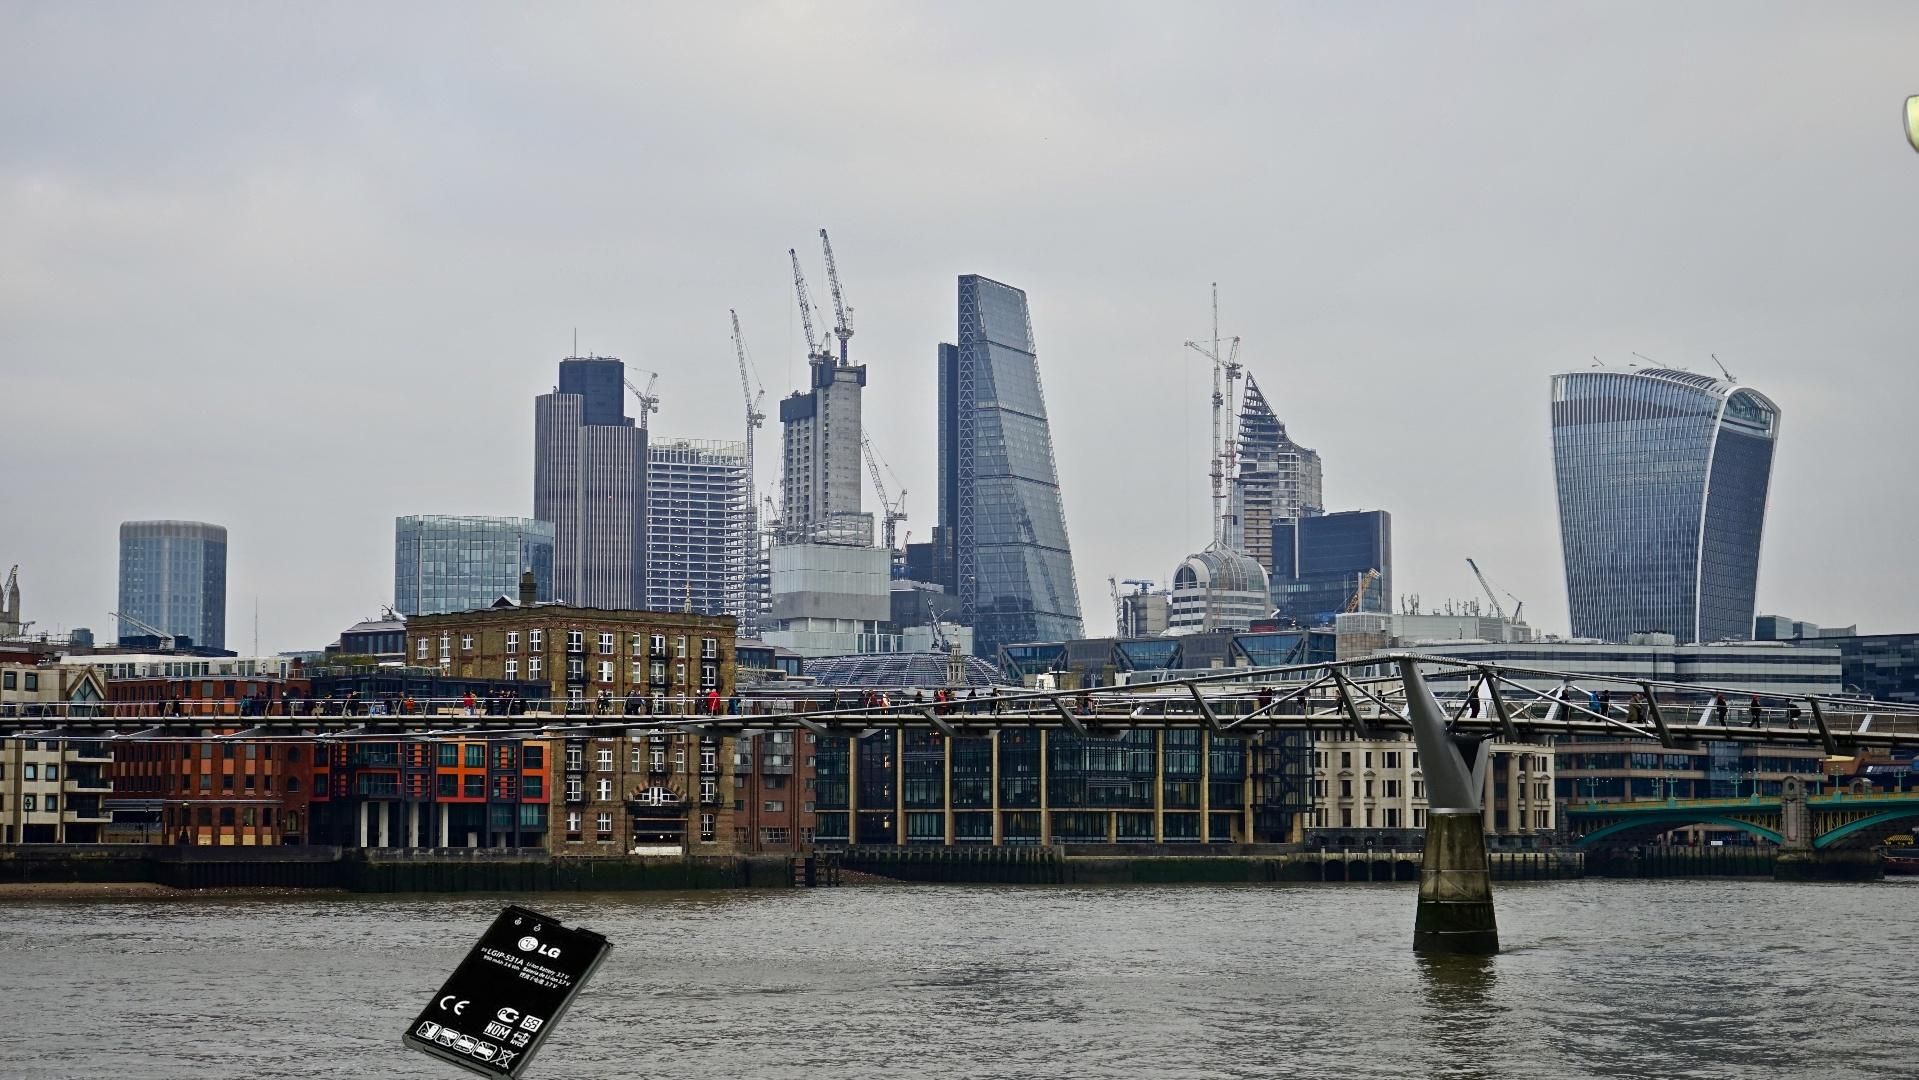battery: (399, 899, 617, 1080)
metal-cans: (1820, 82, 1919, 688)
